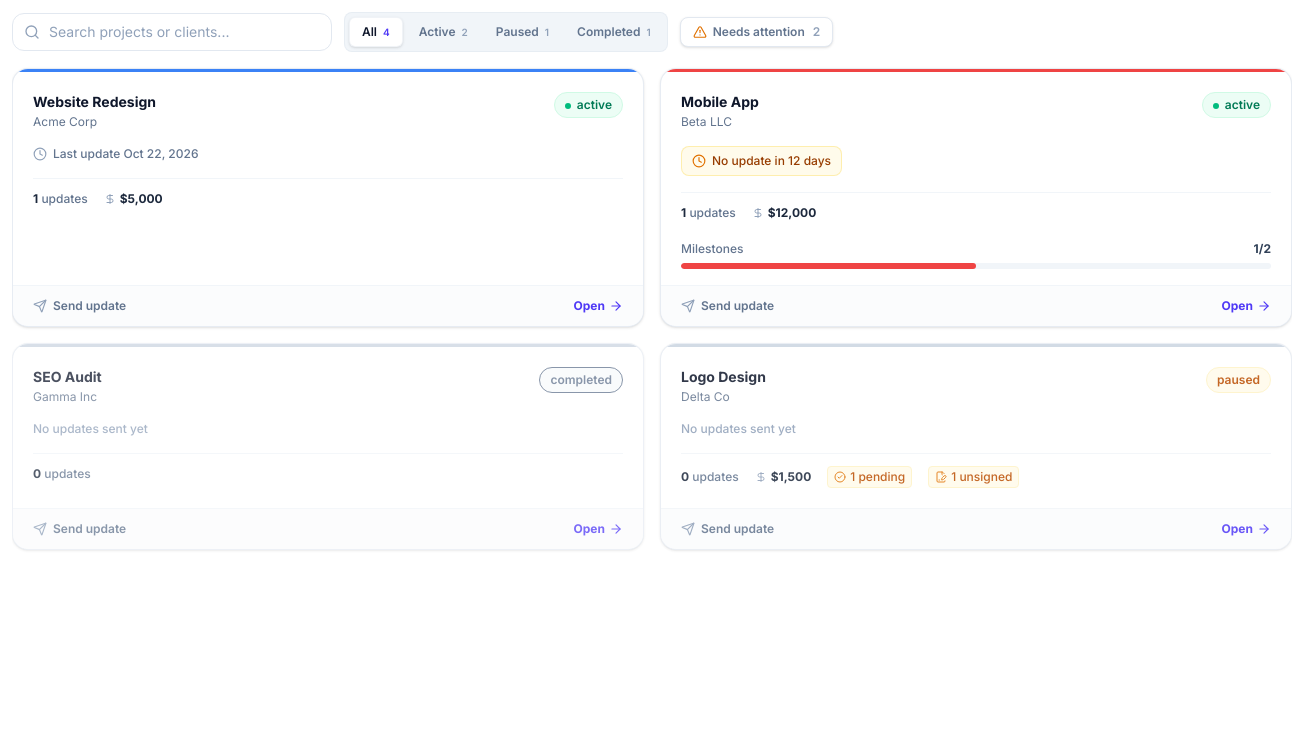
Test: ProjectsClientGrid Component › filters projects by search query (project name)
Type "Website" into the field with placeholder "Search projects or clients..." at (172, 32), box 12,13 -> 332,51
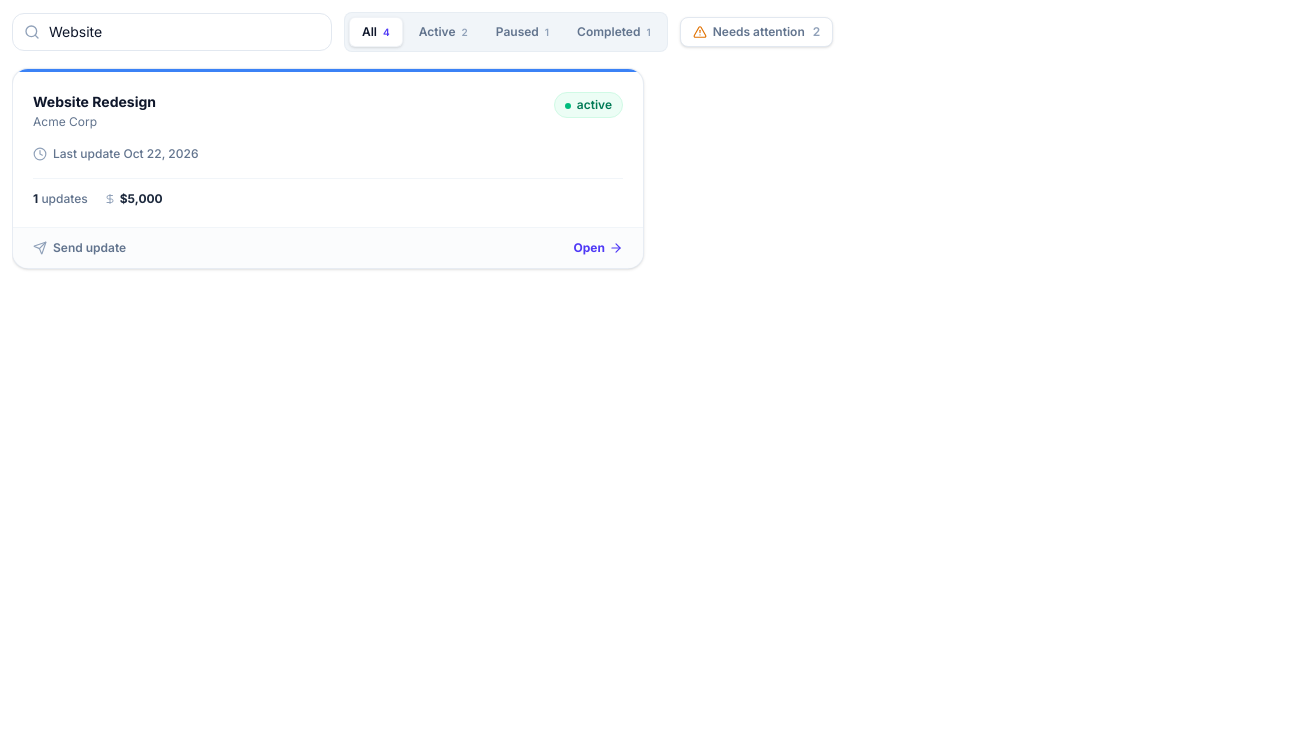
Check: the link "Website Redesign" is shown, box 33,92 -> 156,112
Check: the link "Mobile App" is gone
Check: the link "SEO Audit" is gone
